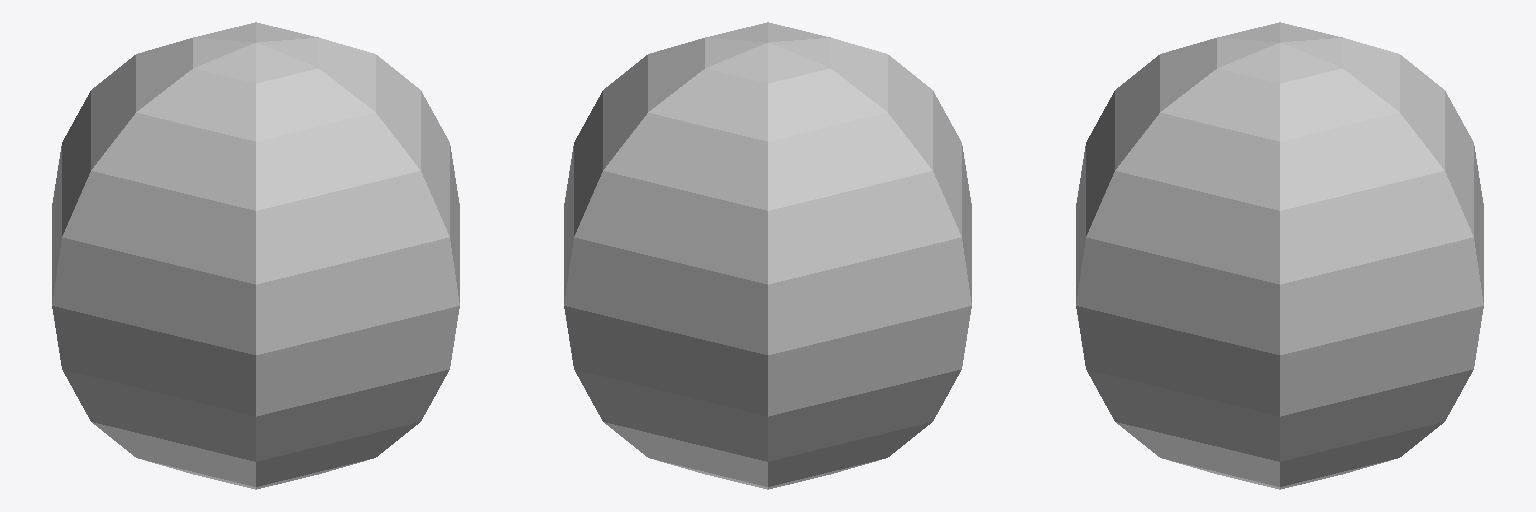
Rendered from bugObject.obj.
The picture shows the model from 3 angles: view 1: azimuth 30°, elevation 25°; view 2: azimuth 150°, elevation 25°; view 3: azimuth 270°, elevation 25°; orthographic projection.
Visible parts, largest first — view 1: Sphere; view 2: Sphere; view 3: Sphere.
Part boxes in pixels (x1,y1,x2,y2): Sphere: (52,22,459,489); Sphere: (564,22,971,489); Sphere: (1076,22,1483,489).
Size of the model in its own units: 2 by 2 by 1.73.